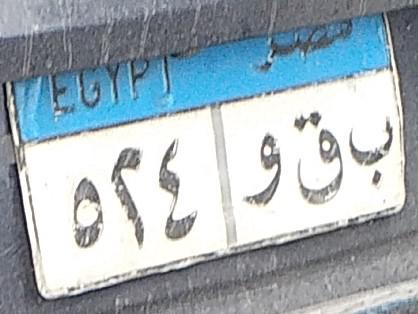2: (116, 131, 151, 261)
4: (155, 127, 199, 256)
5: (56, 159, 106, 268)
ب: (349, 84, 398, 196)
ق: (300, 102, 346, 209)
و: (235, 120, 301, 223)
